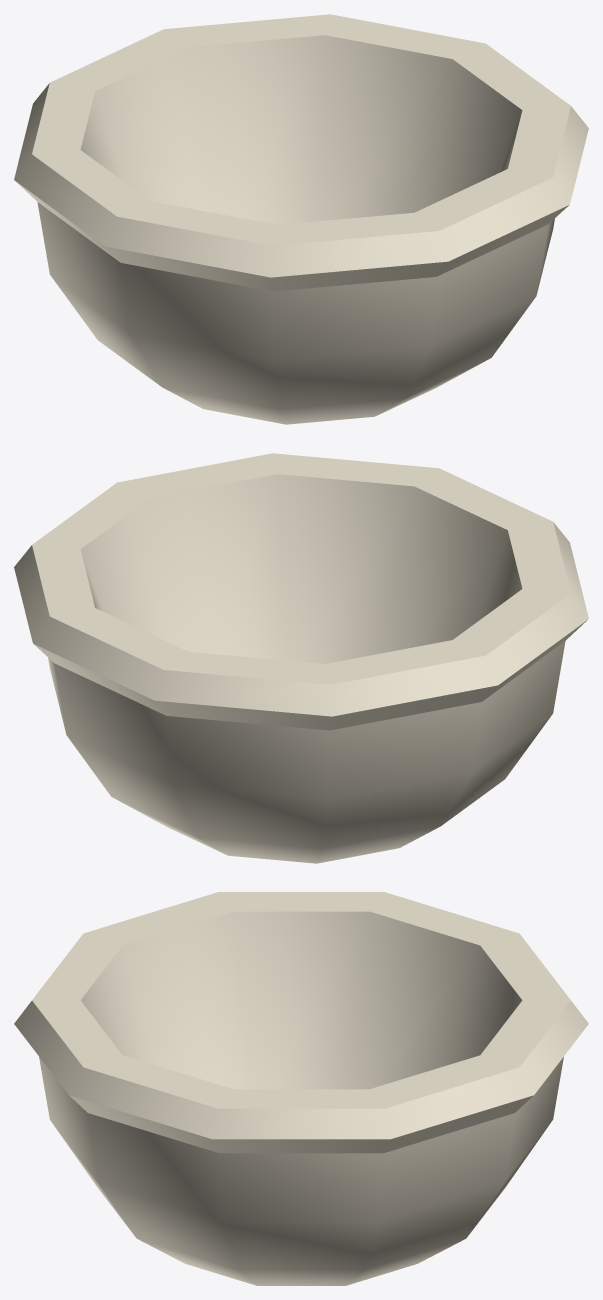
File: Bowl_White.fbx
3 renders of one model, top to bottom at view 1: azimuth 30°, elevation 25°; view 2: azimuth 150°, elevation 25°; view 3: azimuth 270°, elevation 25°, orthographic. The views are drawn at different scales.
Parts seen in each view (by area): view 1: Bowl_White; view 2: Bowl_White; view 3: Bowl_White.
Boxes of the visible parts, left/top/right/bottom form: Bowl_White: left=14, top=14, right=588, bottom=424; Bowl_White: left=14, top=453, right=588, bottom=863; Bowl_White: left=14, top=892, right=588, bottom=1285.
Size of the model in its own units: 30.72 by 14.12 by 32.31.
